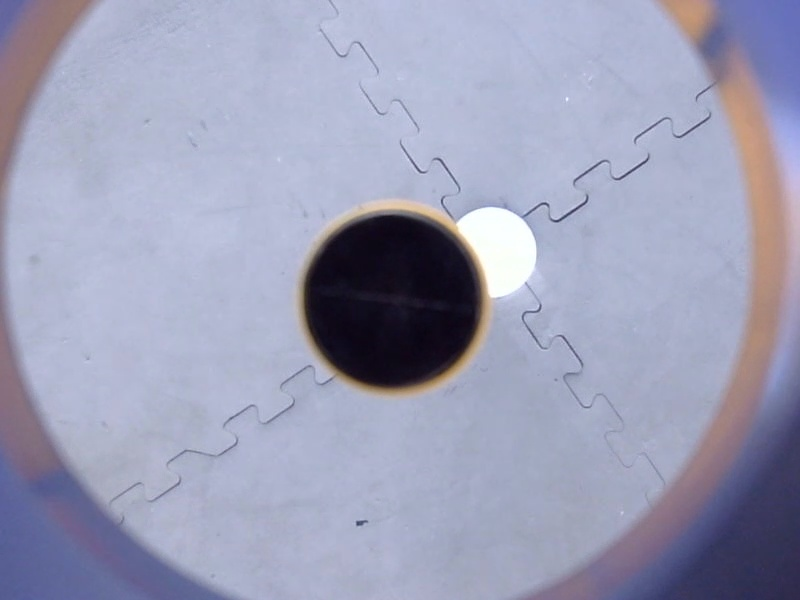tip: (287, 191, 498, 408)
